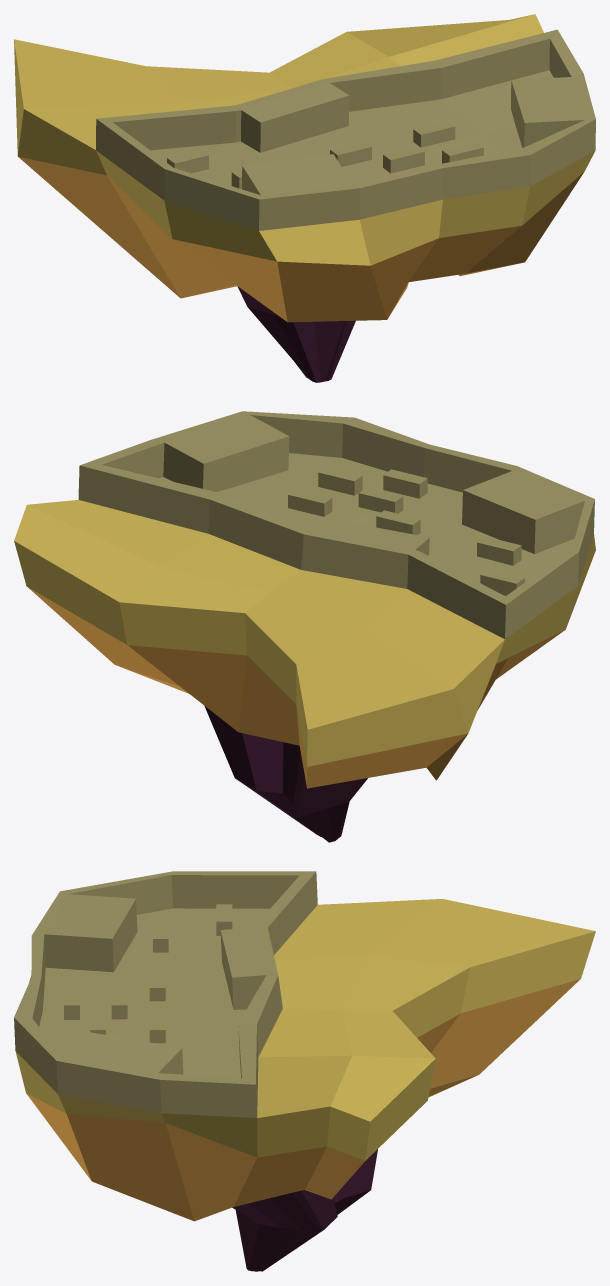
File: island-draksanas.fbx
3 renders of one model, top to bottom at view 1: azimuth 30°, elevation 25°; view 2: azimuth 150°, elevation 25°; view 3: azimuth 270°, elevation 25°, orthographic. The views are drawn at different scales.
Visible parts, largest first — view 1: Plane.001; view 2: Plane.001; view 3: Plane.001.
Part boxes in pixels (left/top/right/bottom): Plane.001: left=14, top=14, right=595, bottom=382; Plane.001: left=14, top=411, right=595, bottom=842; Plane.001: left=14, top=871, right=595, bottom=1271.
Size of the model in its own units: 282 by 168 by 293.
